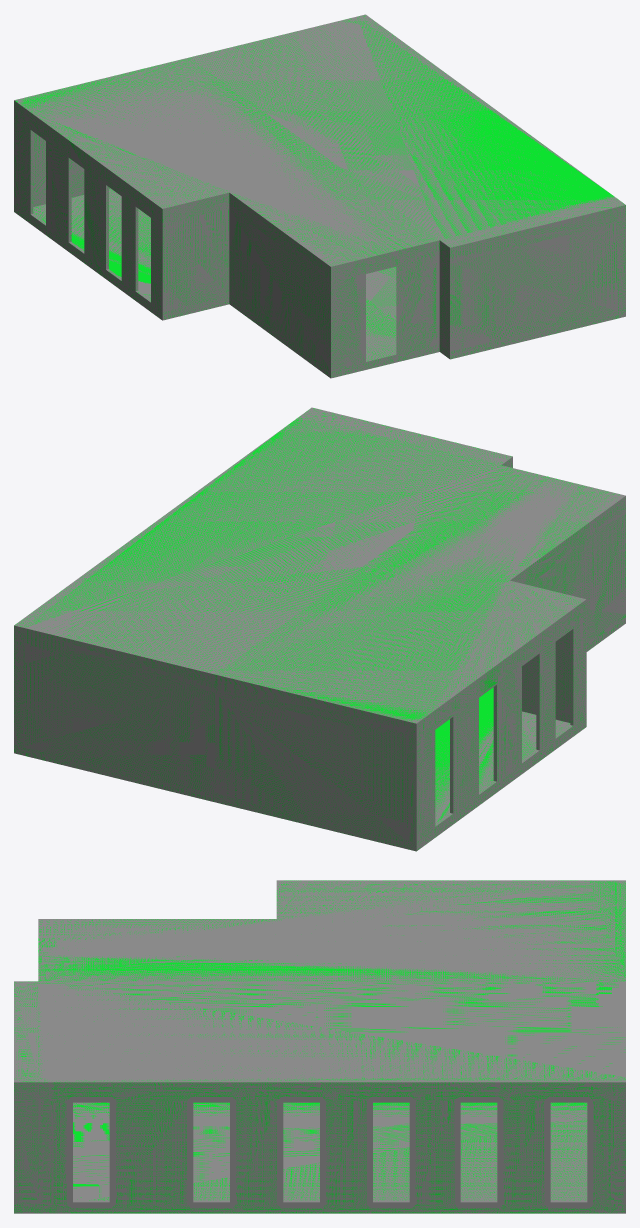
Rendered from Shell_New.FBX.
3 views of the same model, one above another, from view 1: azimuth 30°, elevation 25°; view 2: azimuth 150°, elevation 25°; view 3: azimuth 270°, elevation 25° (orthographic). The views are drawn at different scales.
Parts seen in each view (by area): view 1: AVP3_Shell_Bake, AVP3_Shell_Realtime; view 2: AVP3_Shell_Bake, AVP3_Shell_Realtime; view 3: AVP3_Shell_Bake, AVP3_Shell_Realtime, AVP3_Shell_Realtime2.
Part boxes in pixels (box(x1,y1,x2,y2)): AVP3_Shell_Bake: box(14, 14, 625, 378); AVP3_Shell_Realtime: box(14, 15, 625, 376); AVP3_Shell_Bake: box(14, 407, 625, 851); AVP3_Shell_Realtime: box(14, 408, 625, 851); AVP3_Shell_Bake: box(14, 880, 625, 1213); AVP3_Shell_Realtime: box(14, 880, 625, 1200); AVP3_Shell_Realtime2: box(14, 1082, 625, 1213).
Bounding box in the file's own units: 0.0117 × 0.00355 × 0.015.
